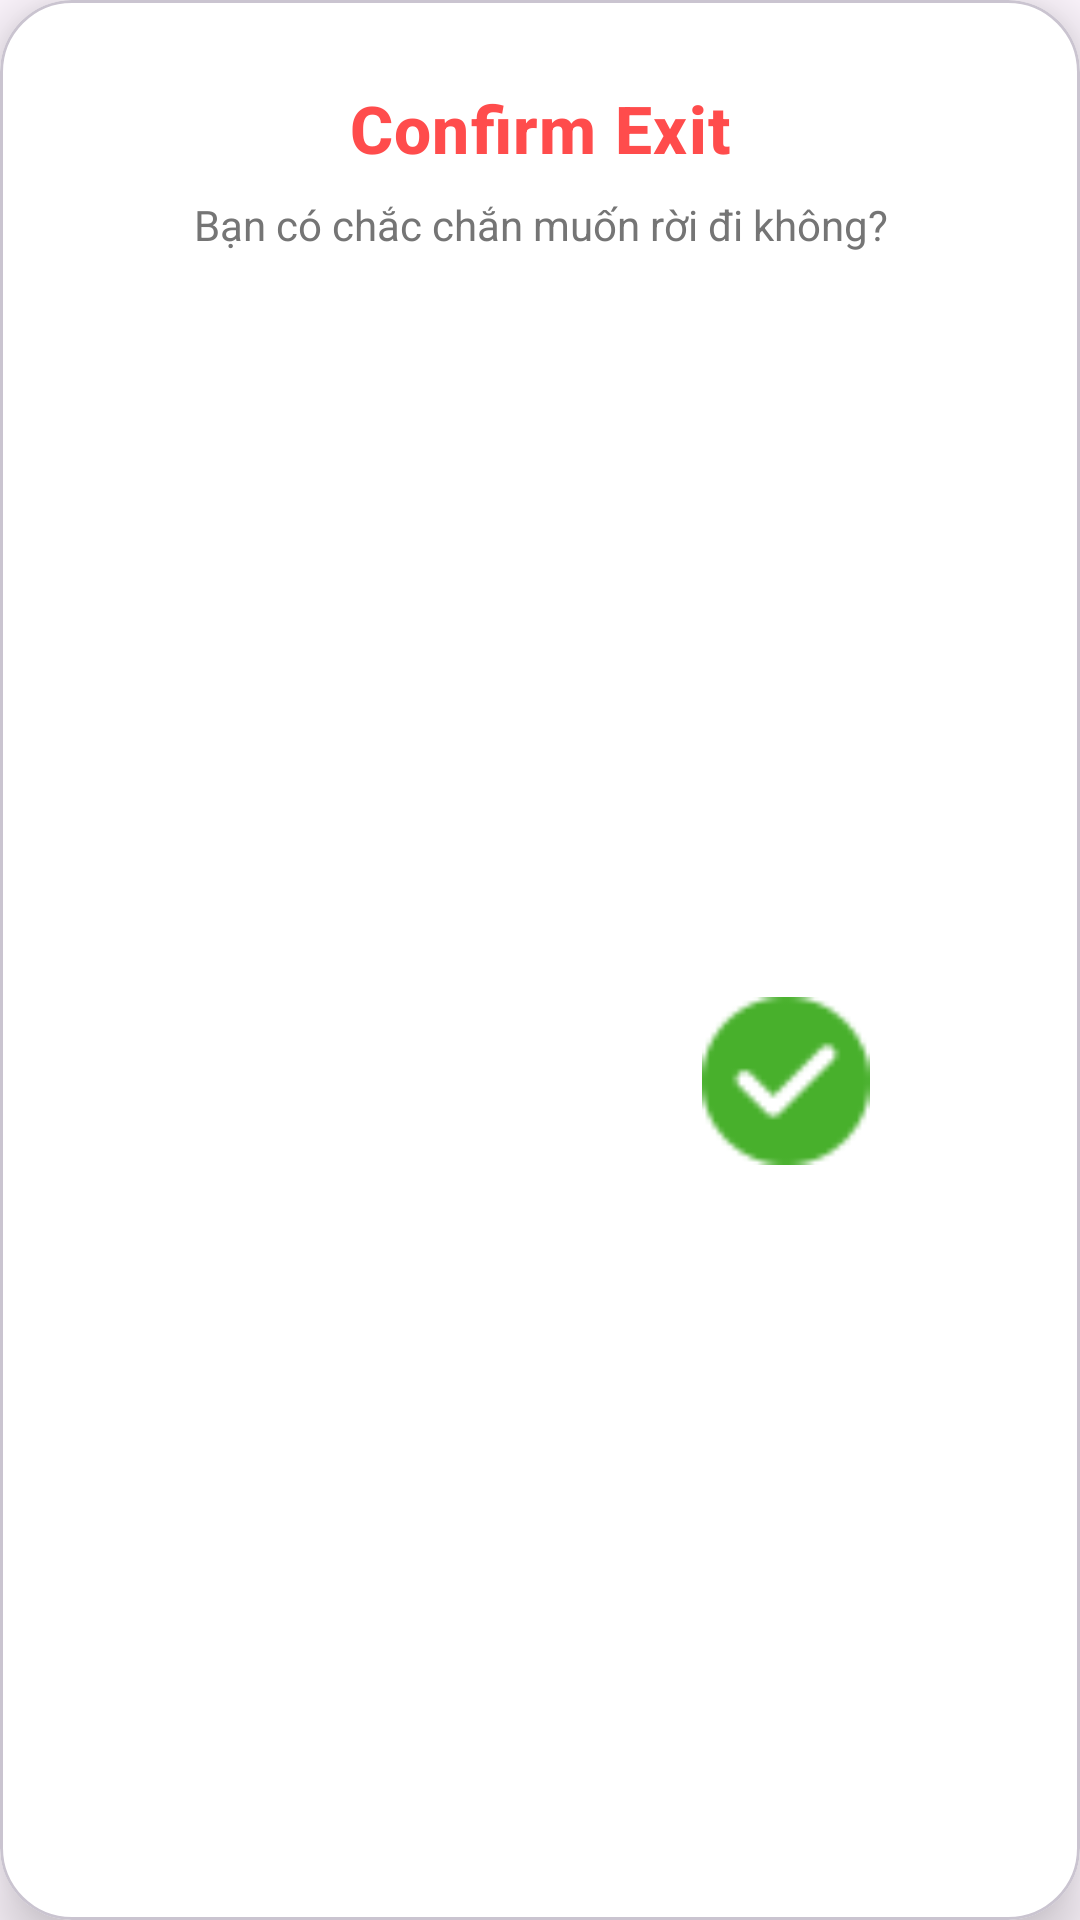

Screen size 1080 × 1920. Icon name, then its box in pixels as (x1, y1, x2, y2):
yes: (702, 997, 870, 1165)
